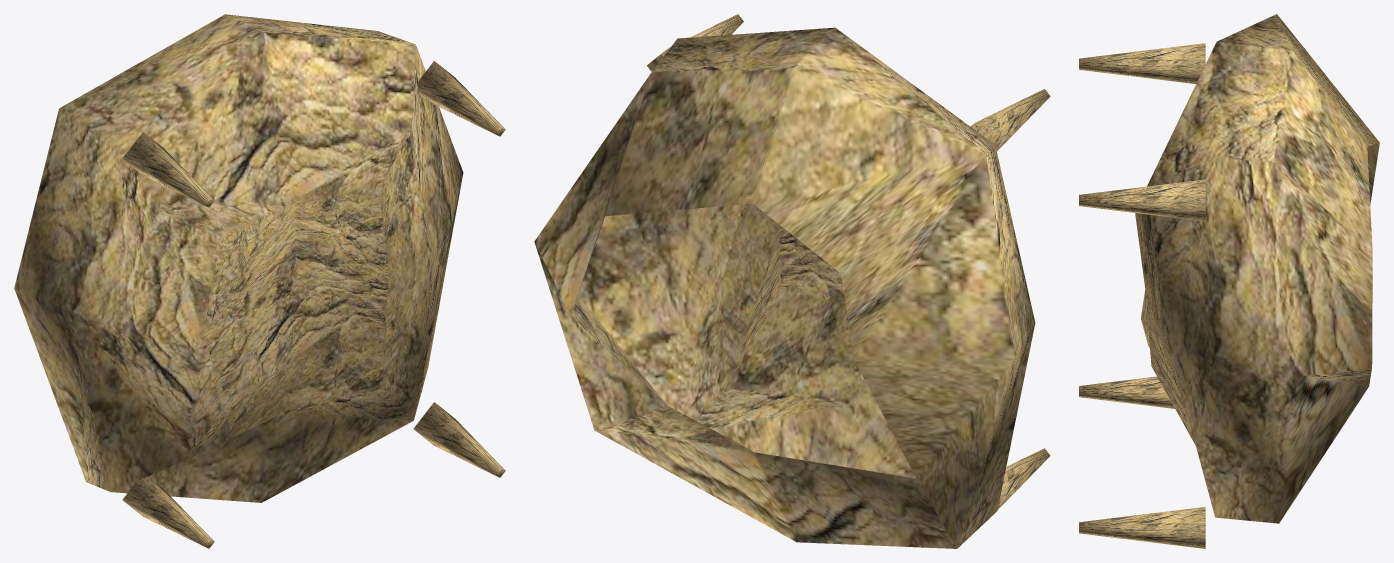
Rendered from stone_000027.obj.
3 renders of one model, left to right at view 1: azimuth 30°, elevation 25°; view 2: azimuth 150°, elevation 25°; view 3: azimuth 270°, elevation 25°, orthographic. The views are drawn at different scales.
Parts seen in each view (by area): view 1: Cube, Cube.001, Cylinder.002, Cylinder, Cylinder.001, Cylinder.003; view 2: Cube.001, Cube, Cylinder, Cylinder.001, Cylinder.003; view 3: Cube.001, Cube, Cylinder.003, Cylinder.002, Cylinder, Cylinder.001.
Boxes of the visible parts, bbox=[...] form: Cube: bbox=[14, 14, 298, 502]; Cube.001: bbox=[225, 14, 463, 502]; Cylinder.002: bbox=[413, 402, 505, 477]; Cylinder: bbox=[122, 132, 214, 207]; Cylinder.001: bbox=[122, 476, 214, 548]; Cylinder.003: bbox=[417, 61, 505, 136]; Cube.001: bbox=[534, 27, 862, 541]; Cube: bbox=[752, 27, 1035, 548]; Cylinder: bbox=[970, 89, 1050, 150]; Cylinder.001: bbox=[997, 448, 1050, 509]; Cylinder.003: bbox=[647, 14, 743, 71]; Cube.001: bbox=[1135, 41, 1372, 523]; Cube: bbox=[1141, 14, 1379, 347]; Cylinder.003: bbox=[1079, 179, 1205, 221]; Cylinder.002: bbox=[1079, 507, 1205, 548]; Cylinder: bbox=[1079, 43, 1205, 83]; Cylinder.001: bbox=[1079, 376, 1174, 408].
Bounding box in the file's own units: 6.65 × 6.59 × 3.99.
